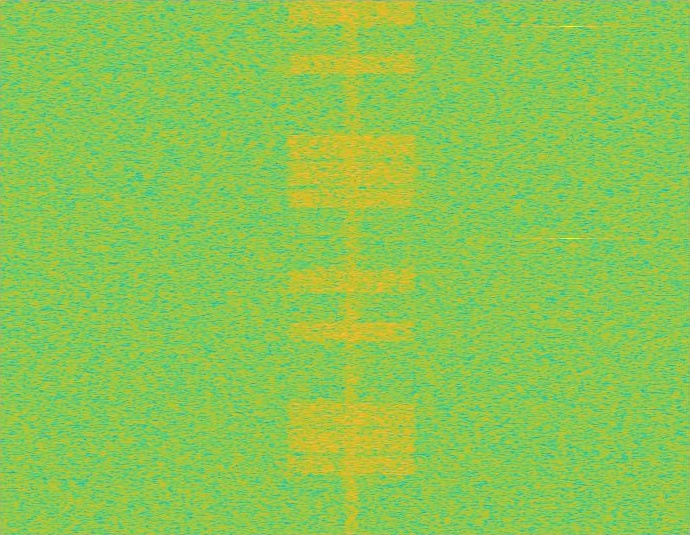DSSS: (343, 0, 361, 534)
LTE: (283, 0, 421, 534)
Radar: (564, 0, 578, 534)
